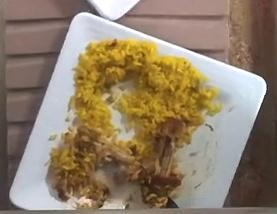rice: (47, 39, 219, 207)
